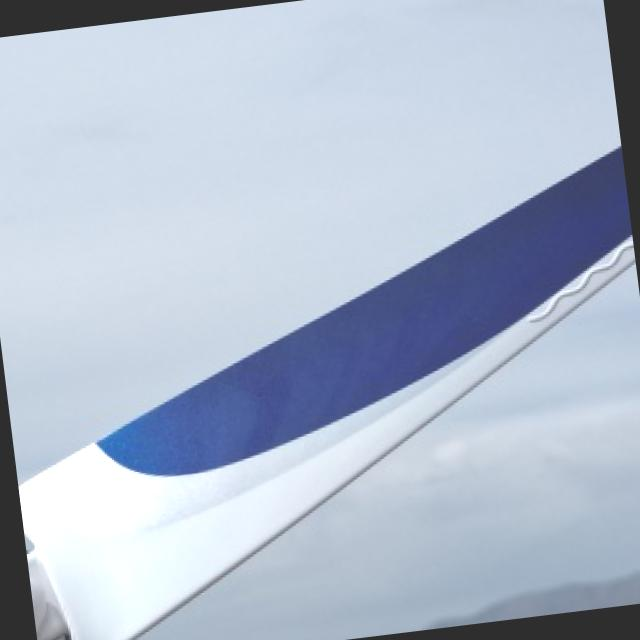healthy: (18, 146, 633, 640)
